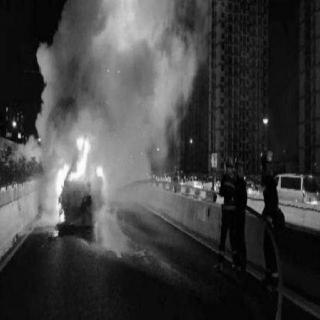Smoke: (168, 38, 190, 88)
